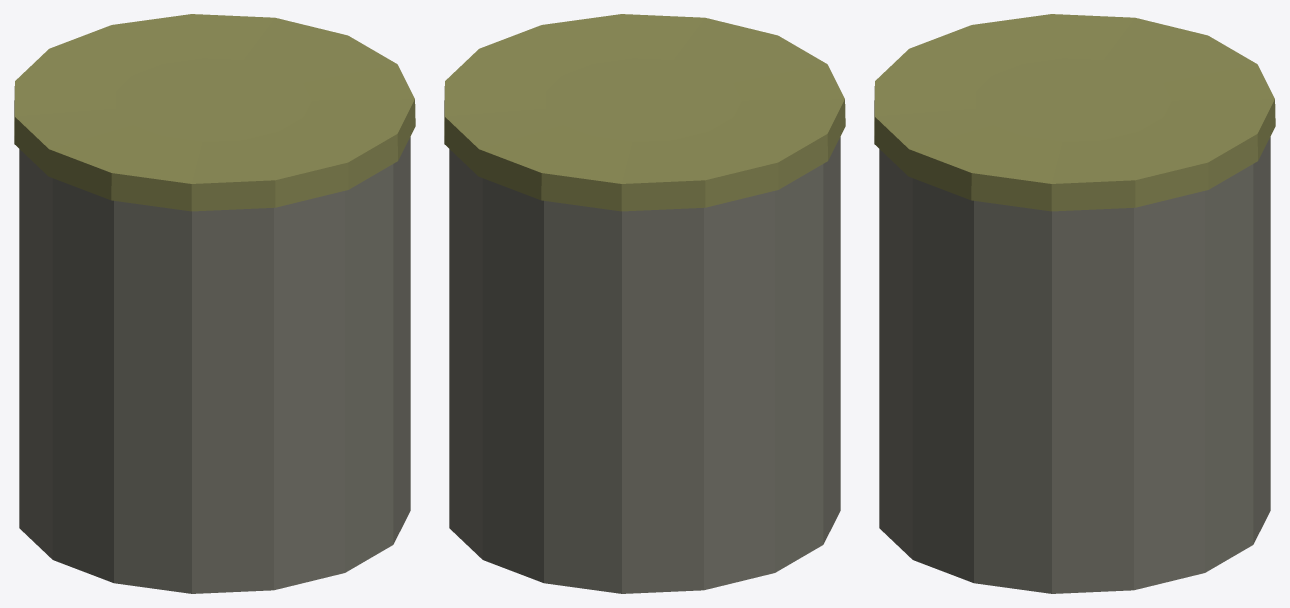
The model's file is BlindSeerEyes.fbx.
3 views of the same model, side by side, from view 1: azimuth 30°, elevation 25°; view 2: azimuth 150°, elevation 25°; view 3: azimuth 270°, elevation 25° (orthographic).
Parts seen in each view (by area): view 1: Cylinder.002; view 2: Cylinder.002; view 3: Cylinder.002.
Boxes of the visible parts, x1=… form: Cylinder.002: x1=14, y1=14, x2=415, y2=593; Cylinder.002: x1=444, y1=14, x2=845, y2=593; Cylinder.002: x1=874, y1=14, x2=1275, y2=593.
Bounding box in the file's own units: 17.42 × 19.62 × 17.33.
